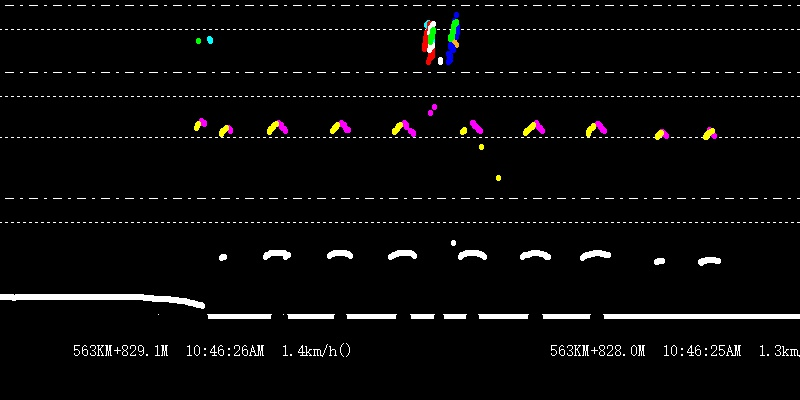J: (419, 4, 460, 64)
y_p: (251, 116, 620, 276)
